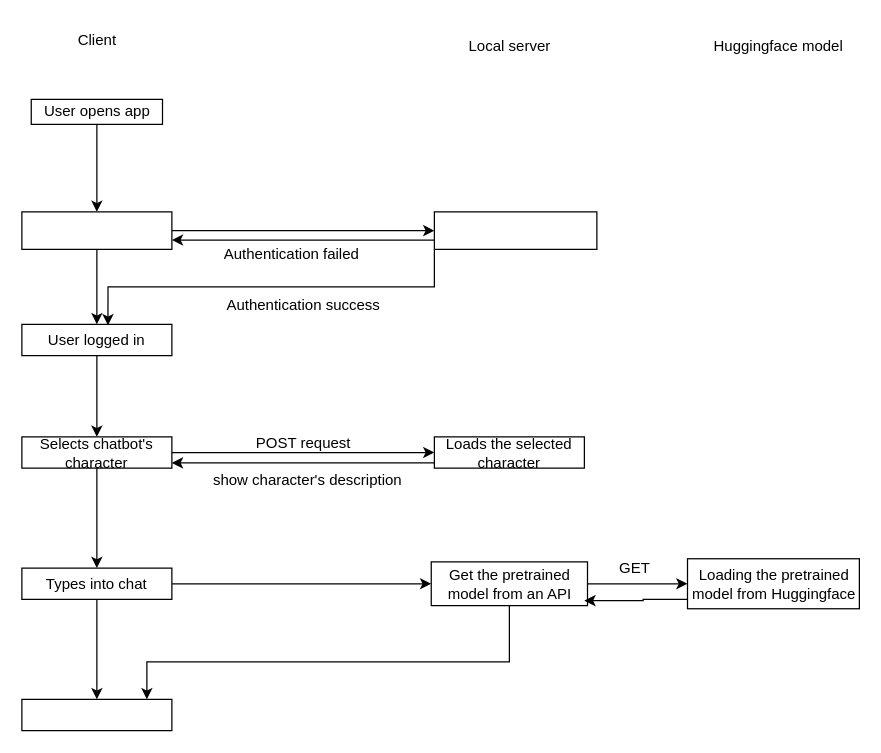
The diagram is 881 pixels wide and 753 high, and some of its shapes have lost their labels. Here are the shapes that lost their labels. From the top down, the centre of each, then its label:
point (96, 230): Types in username and password
point (515, 230): Authentication
point (96, 714): Chatbot's response
